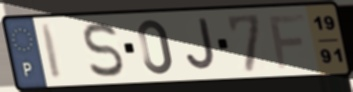0: (136, 18, 174, 77)
7: (223, 11, 263, 74)
F: (267, 12, 309, 71)
I: (38, 21, 65, 82)
J: (184, 17, 219, 74)
S: (82, 20, 127, 80)
